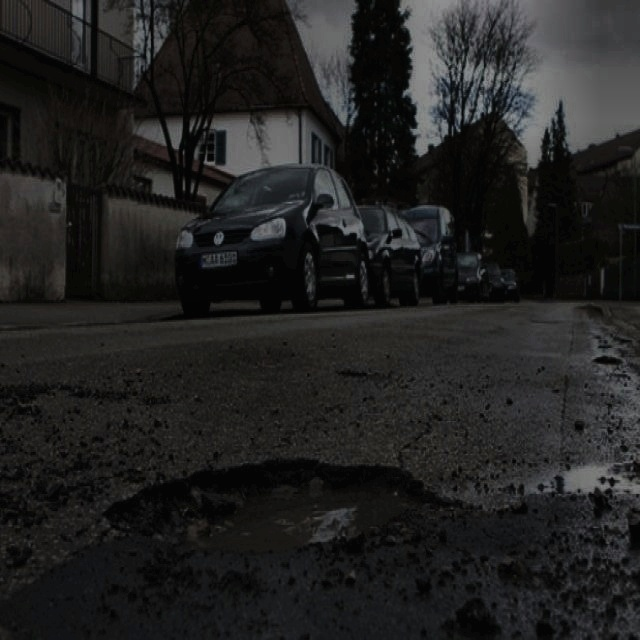Pothole: (95, 446, 468, 558)
